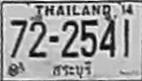1: (123, 18, 128, 56)
2: (28, 20, 46, 56), (61, 20, 78, 56)
4: (99, 19, 115, 56)
5: (80, 19, 97, 56)
7: (10, 19, 26, 57)
SRI: (51, 60, 94, 79)
